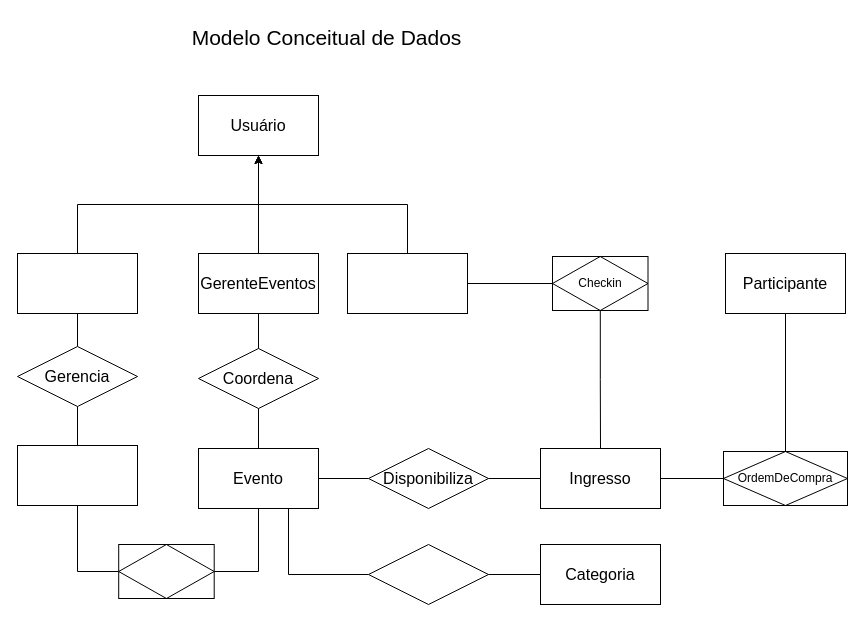
Some shapes in this 865 by 622 pixel diagram are drawn without their labels. Each missing label, with the box of its shape:
Administrador: (16, 252, 138, 314)
Locações: (16, 444, 138, 506)
Pertence: (368, 544, 488, 604)
Recebe: (118, 544, 214, 598)
Staff: (346, 252, 468, 314)
